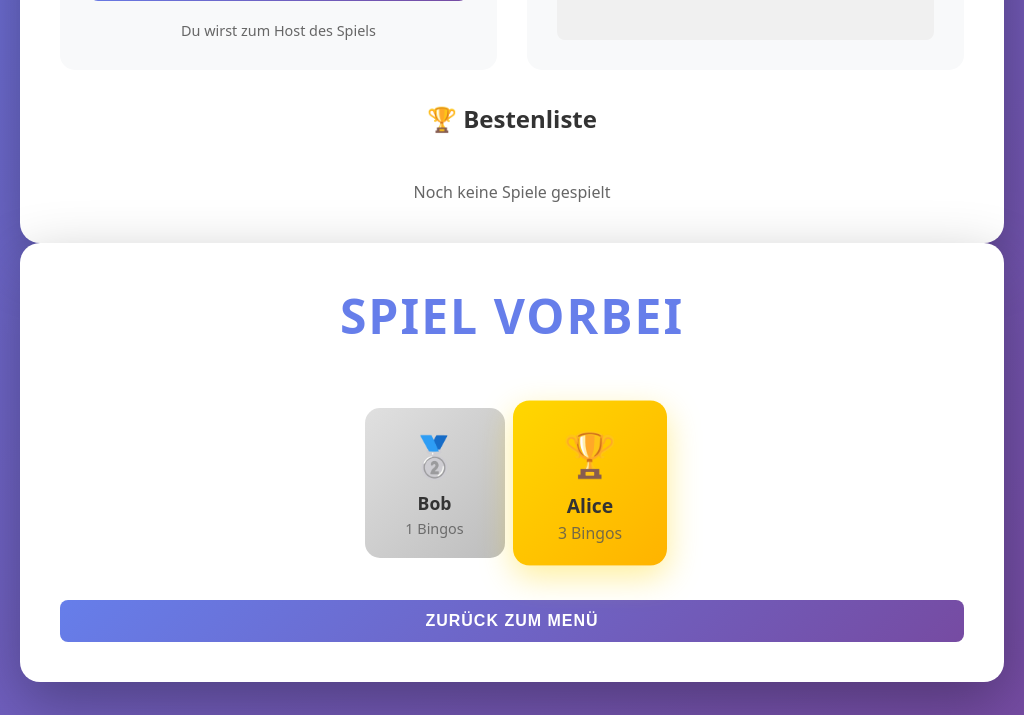
Test: App component - Finished Screen › finished screen disappears after clicking "Zurück zum Menü"
The width and height of the screenshot is (1024, 715).
(page scrolled)
Expected: the heading "SPIEL VORBEI" is shown, [340,283,684,348]
Click "Zurück zum Menü"
Click the button "Zurück zum Menü": coordinates (512, 621) [60,600,964,642]
(page scrolled)
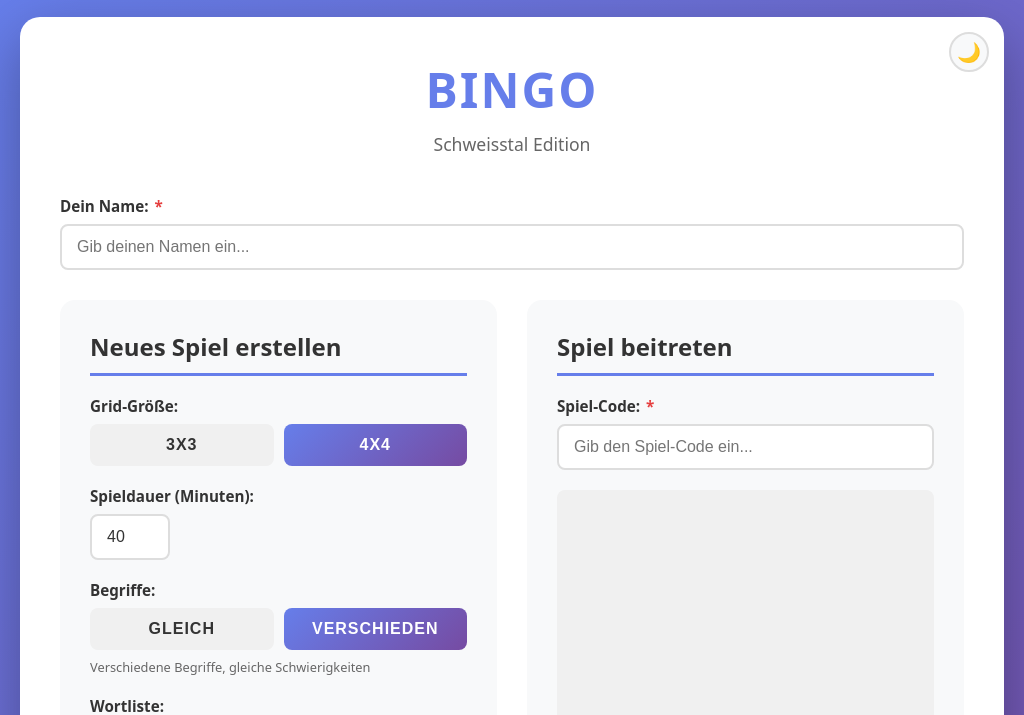
Expected: the heading "BINGO" is shown, [426,57,598,122]
Expected: the heading "SPIEL VORBEI" is gone
